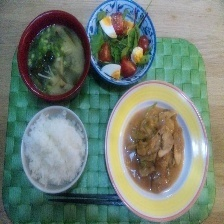sabzi: (118, 100, 187, 200)
